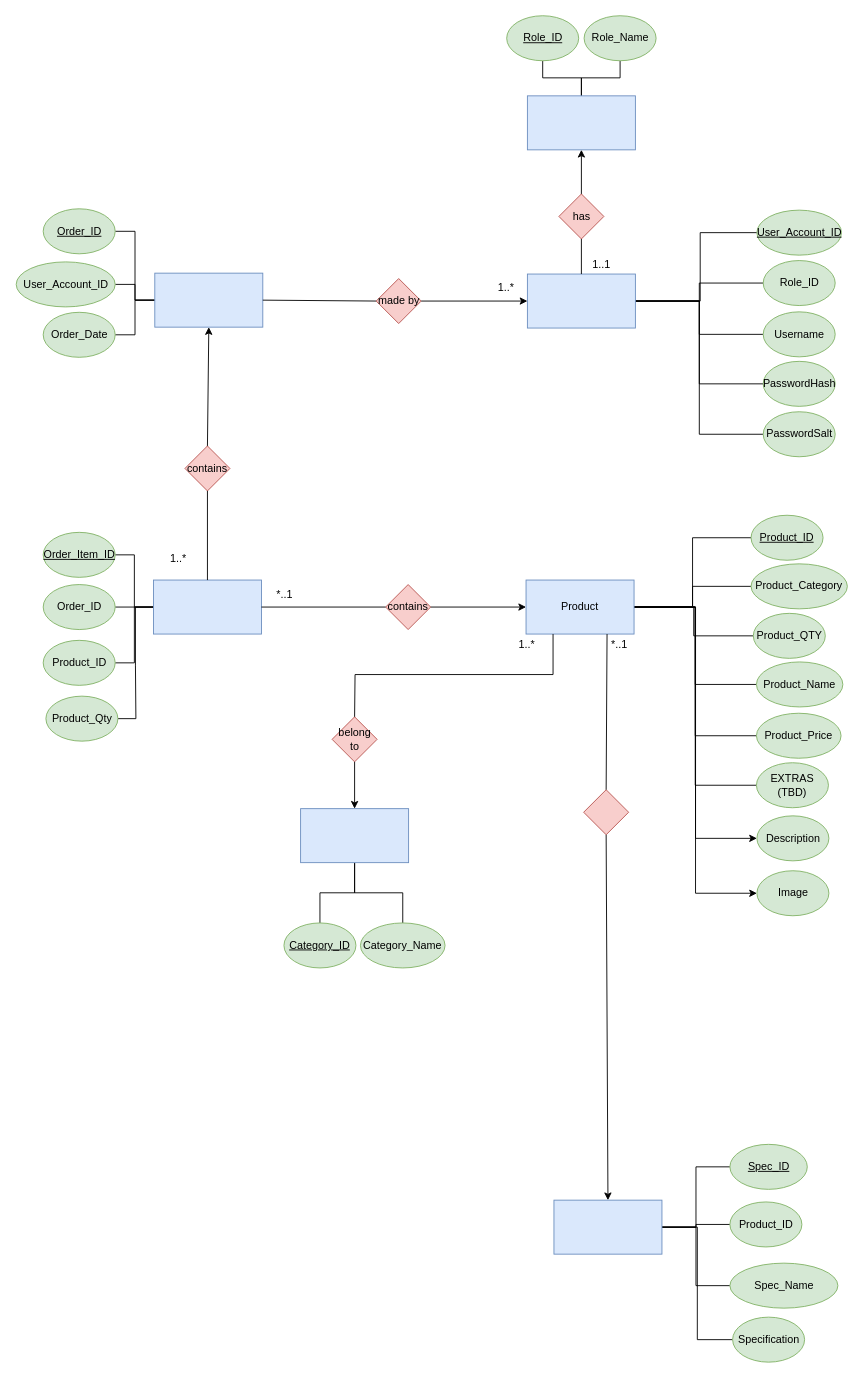
Image size: 863x1378. Some labels were removed from this diagram. The centre of each missing label's shape, as x and y in pixels:
"Category" belongs at (354,835).
"have" belongs at (606,812).
"Order" belongs at (208,299).
"Order_Item" belongs at (207,606).
"Product_Spec" belongs at (607,1226).
"Role" belongs at (580,122).
"User_Account" belongs at (580,300).
